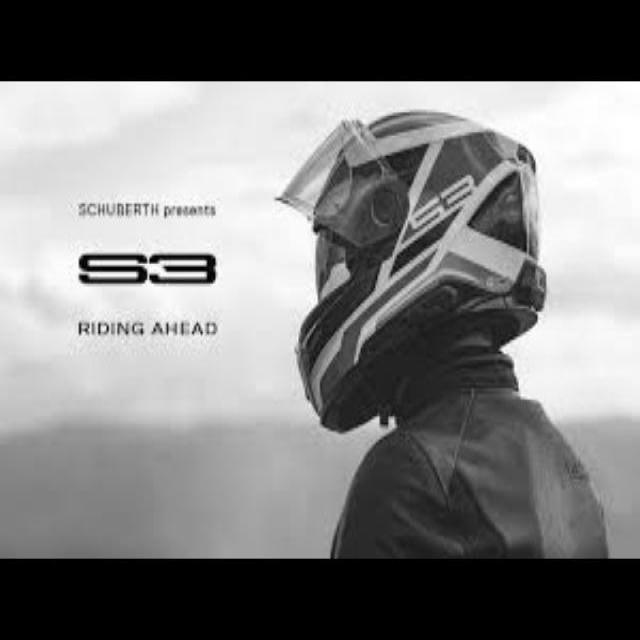5_casco: (271, 96, 554, 443)
